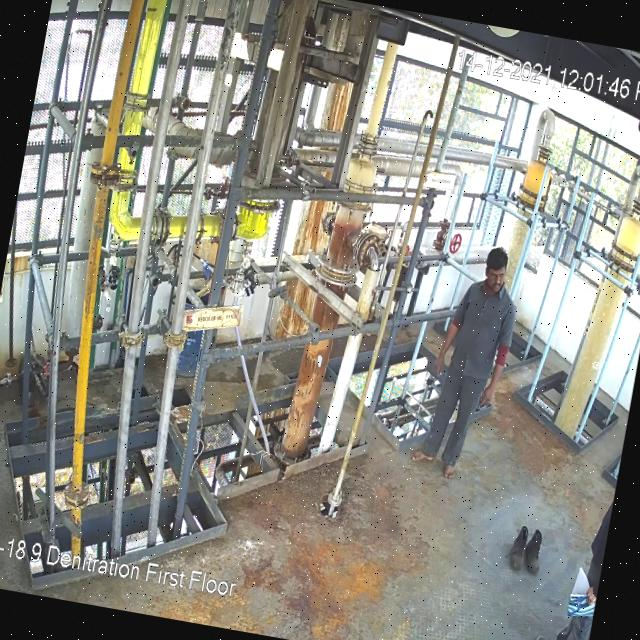boots: (505, 522, 535, 574), (522, 528, 548, 574)
no-boots: (408, 446, 434, 464), (438, 462, 457, 484)
